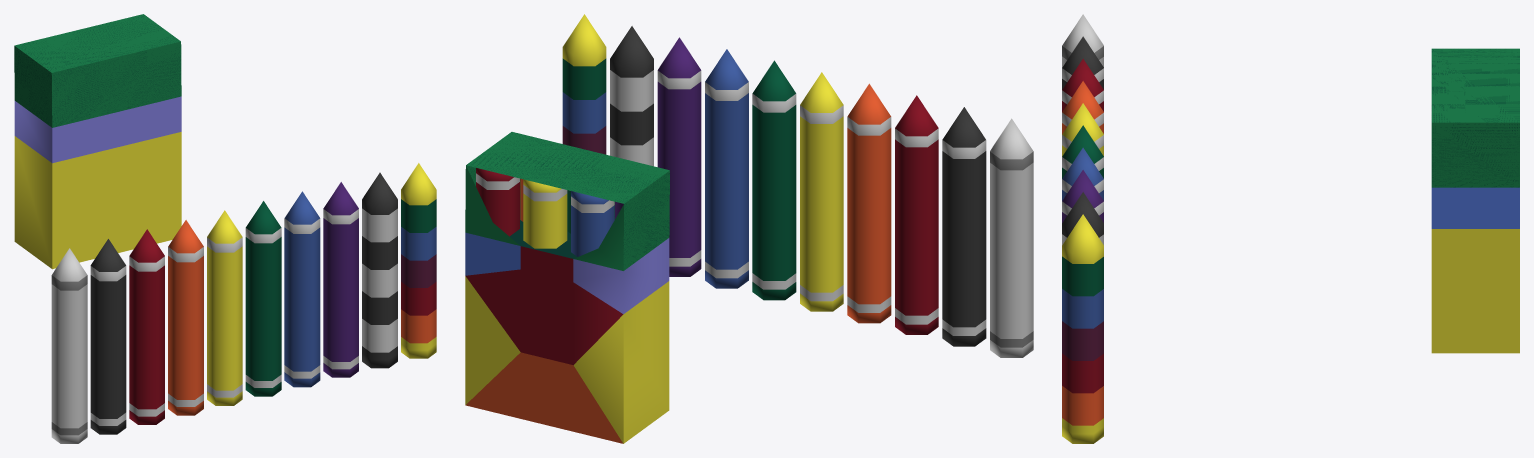
Rendered from crayons.fbx.
The picture shows the model from 3 angles, left to right: view 1: azimuth 30°, elevation 25°; view 2: azimuth 150°, elevation 25°; view 3: azimuth 270°, elevation 25°; orthographic projection. The views are drawn at different scales.
Visible parts, largest first — view 1: crayon_box, crayon_blue, crayon_black, crayon_green, crayon_white, crayon_orange, crayon_mime, crayon_purple, crayon_clown, crayon_red, crayon_yellow; view 2: crayon_box, crayon_orange, crayon_green, crayon_black, crayon_blue, crayon_yellow, crayon_red, crayon_white, crayon_purple, crayon_clown, crayon_mime, crayon_yellow_box (+2 smaller); view 3: crayon_box, crayon_clown, crayon_blue, crayon_mime, crayon_black, crayon_yellow, crayon_orange, crayon_red, crayon_green, crayon_white, crayon_purple.
Part boxes in pixels (left/top/right/bottom): crayon_box: left=14, top=14, right=181, bottom=269; crayon_blue: left=284, top=191, right=320, bottom=387; crayon_black: left=90, top=239, right=126, bottom=434; crayon_green: left=245, top=201, right=281, bottom=396; crayon_white: left=51, top=248, right=87, bottom=443; crayon_orange: left=168, top=220, right=203, bottom=415; crayon_mime: left=362, top=172, right=397, bottom=368; crayon_purple: left=323, top=182, right=358, bottom=377; crayon_clown: left=401, top=163, right=436, bottom=358; crayon_red: left=129, top=229, right=164, bottom=424; crayon_yellow: left=207, top=210, right=242, bottom=405; crayon_box: left=465, top=132, right=669, bottom=443; crayon_orange: left=847, top=83, right=891, bottom=323; crayon_green: left=752, top=60, right=796, bottom=300; crayon_black: left=942, top=107, right=986, bottom=346; crayon_blue: left=705, top=49, right=748, bottom=288; crayon_yellow: left=800, top=72, right=843, bottom=311; crayon_red: left=895, top=95, right=938, bottom=334; crayon_white: left=990, top=118, right=1033, bottom=357; crayon_purple: left=657, top=37, right=701, bottom=276; crayon_clown: left=562, top=14, right=606, bottom=154; crayon_mime: left=610, top=26, right=653, bottom=166; crayon_yellow_box: left=523, top=179, right=567, bottom=248; crayon_box: left=1431, top=48, right=1519, bottom=353; crayon_clown: left=1062, top=214, right=1103, bottom=443; crayon_blue: left=1062, top=147, right=1103, bottom=200; crayon_mime: left=1062, top=192, right=1103, bottom=245; crayon_black: left=1062, top=36, right=1103, bottom=89; crayon_yellow: left=1062, top=103, right=1103, bottom=156; crayon_orange: left=1062, top=81, right=1103, bottom=134; crayon_red: left=1062, top=58, right=1103, bottom=111; crayon_green: left=1062, top=125, right=1103, bottom=178; crayon_white: left=1062, top=14, right=1103, bottom=67; crayon_purple: left=1062, top=170, right=1103, bottom=222.
Bounding box in the file's own units: 0.727 × 0.4133 × 0.6531.
